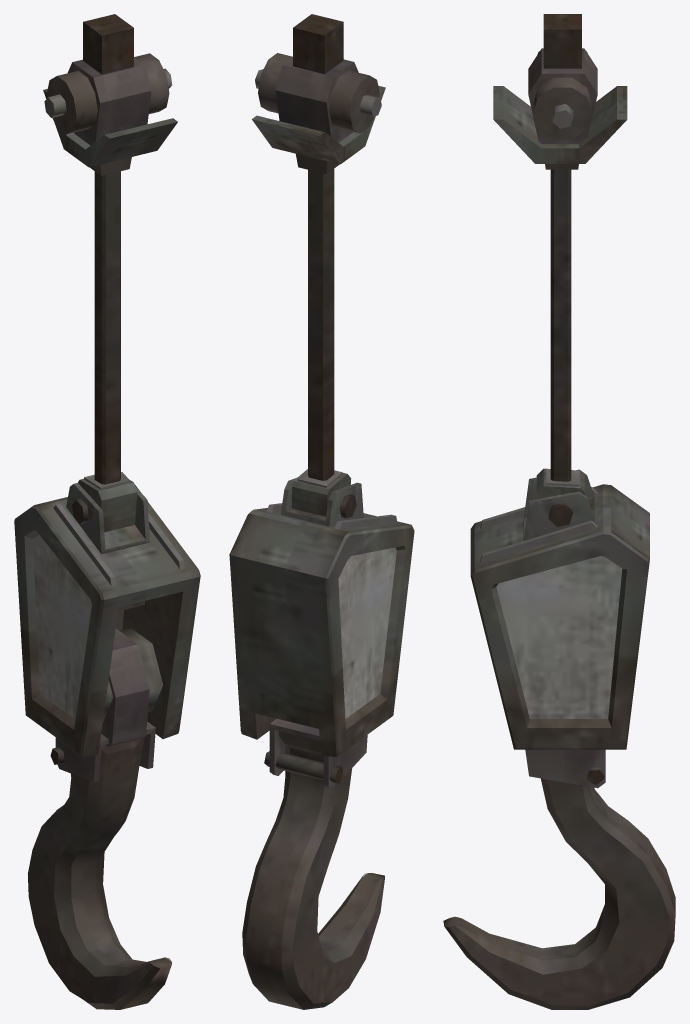
Rendered from pulleyhook01.glb.
The picture shows the model from 3 angles, left to right: view 1: azimuth 30°, elevation 25°; view 2: azimuth 150°, elevation 25°; view 3: azimuth 270°, elevation 25°; orthographic projection.
Visible parts, largest first — view 1: 0_utility_poles001; view 2: 0_utility_poles001; view 3: 0_utility_poles001.
Boxes of the visible parts, x1,y1,x2,y2 form: 0_utility_poles001: [14, 14, 200, 1009]; 0_utility_poles001: [229, 14, 414, 1009]; 0_utility_poles001: [443, 14, 675, 1009].
Bounding box in the file's own units: 0.4493 × 3.57 × 0.766.
1 material, 1 textured.
